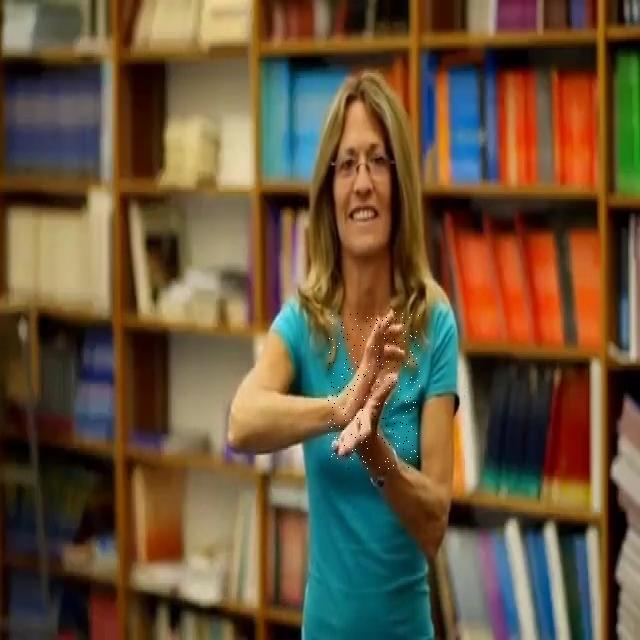cheese: (328, 311, 420, 469)
